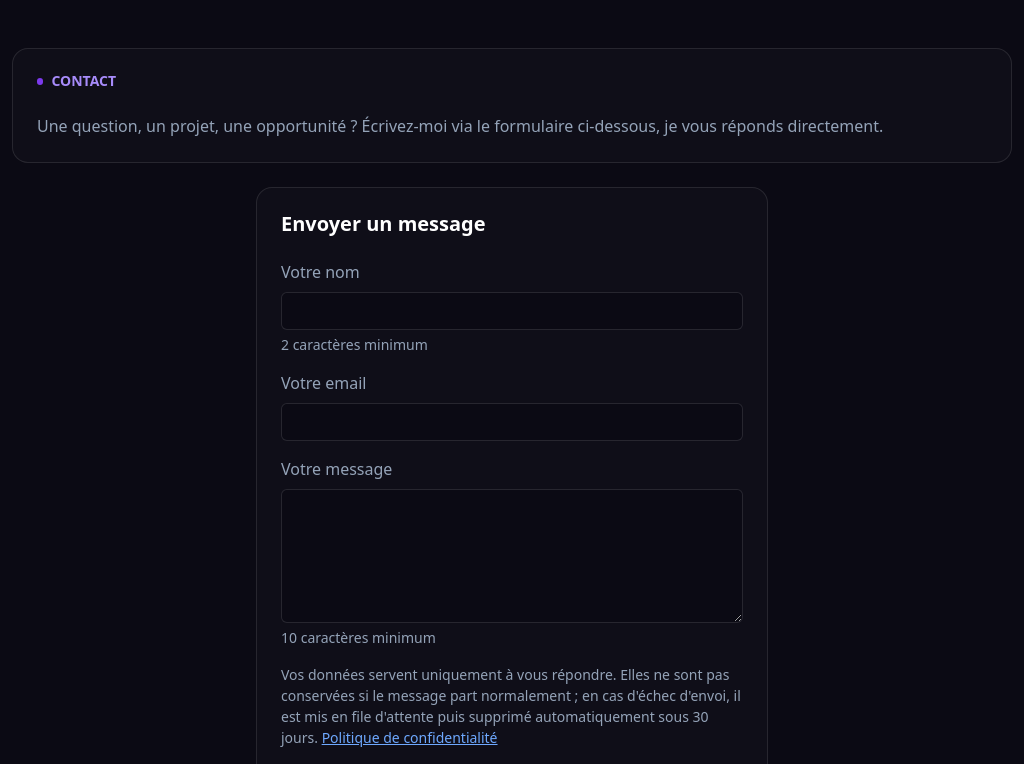
ContactPage › retombe sur un message de validation générique si aucune violation exploitable ne revient
Type "Jane Doe" into the field with id "contact-name" at (512,311), box [281,292,743,330]
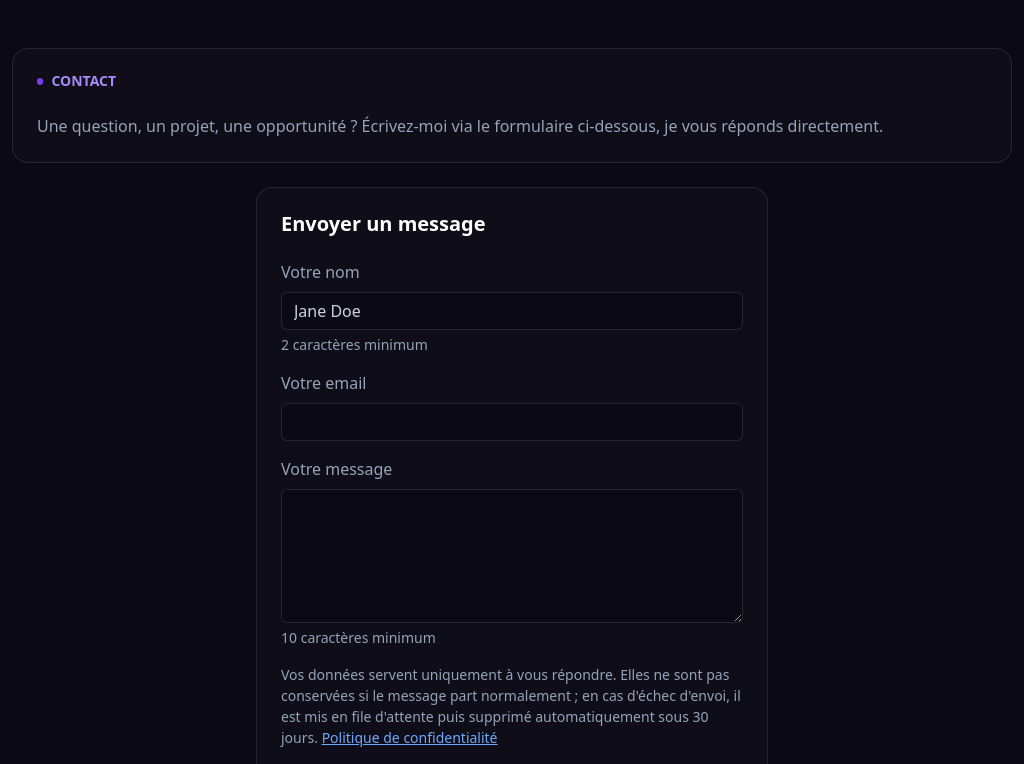
Type "jane@example.com" into the field with id "contact-email" at (512,422), box [281,403,743,441]
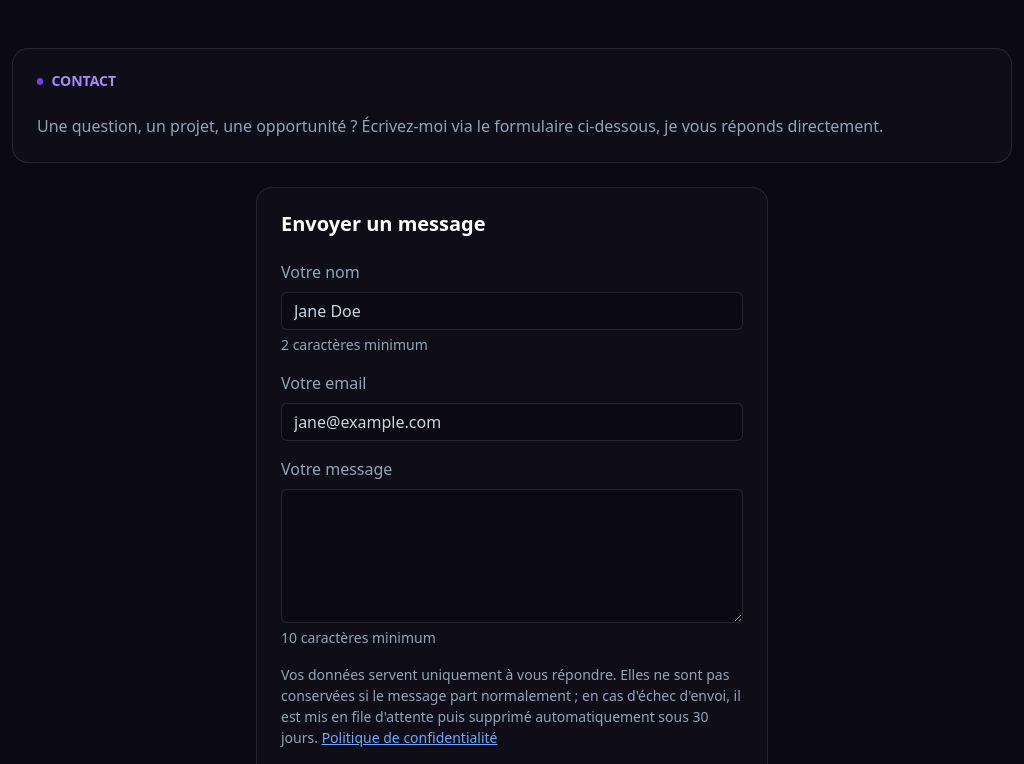
Type "Bonjour, je vous contacte au sujet de..." into the text box with id "contact-message" at (512,556), box [281,489,743,623]
(page scrolled)
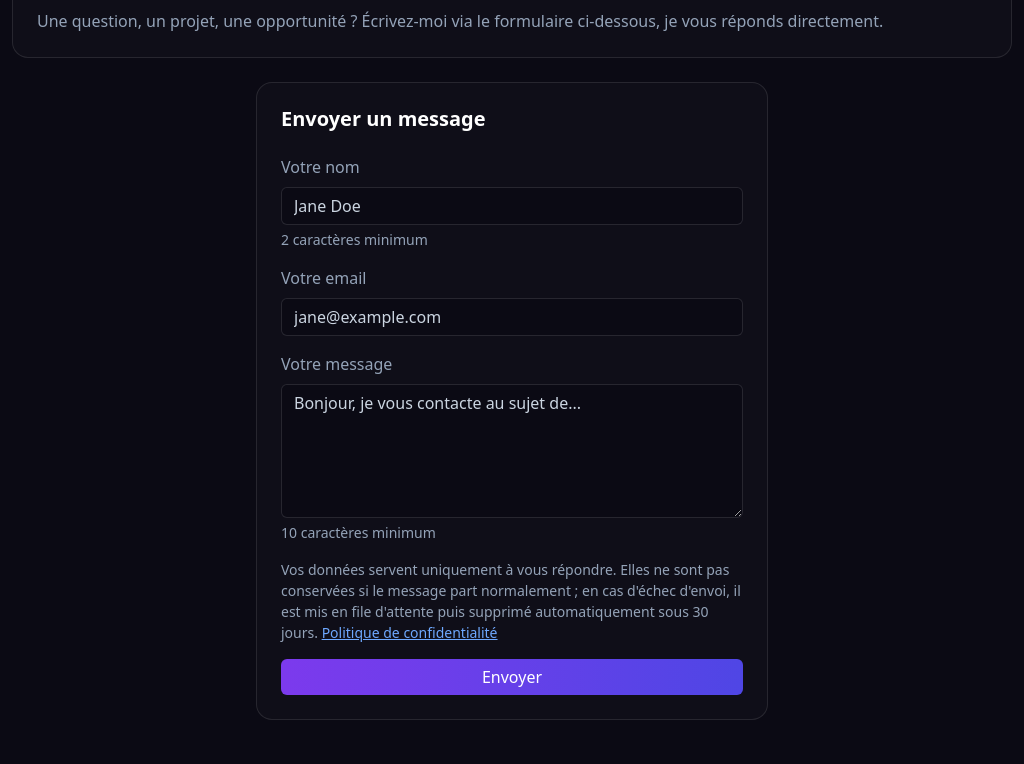
Submit the form, box [281,155,743,695]
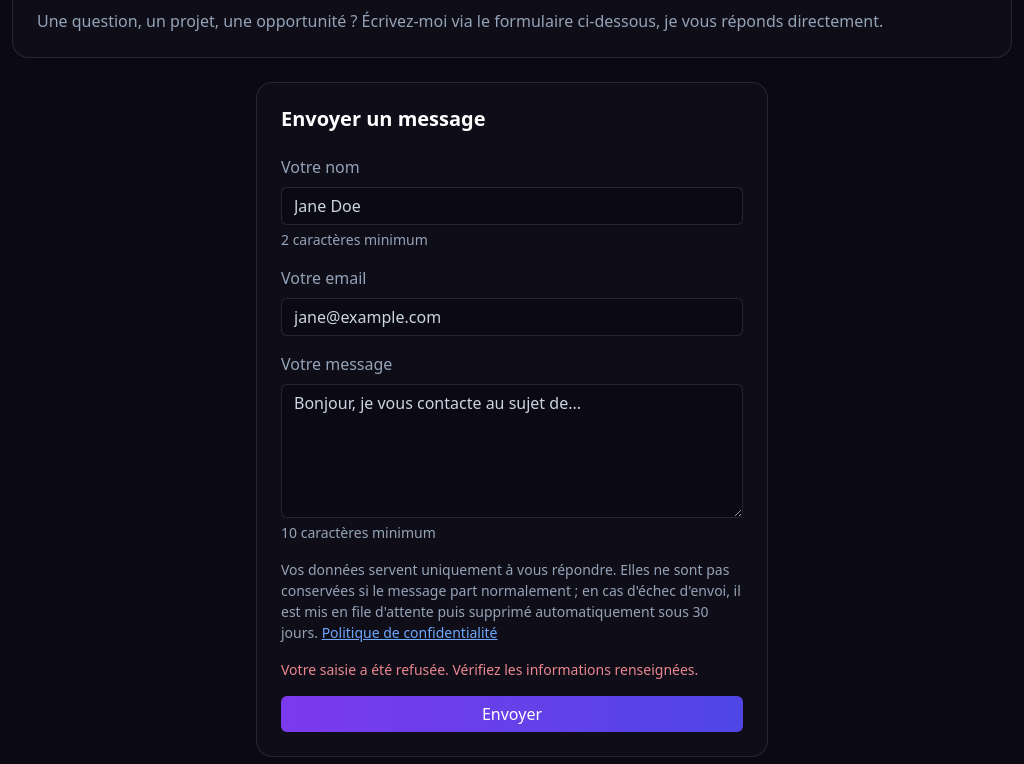
Now the message "Votre saisie a été refusée. Vérifiez les informations renseignées." is shown, box [281,659,743,680]
